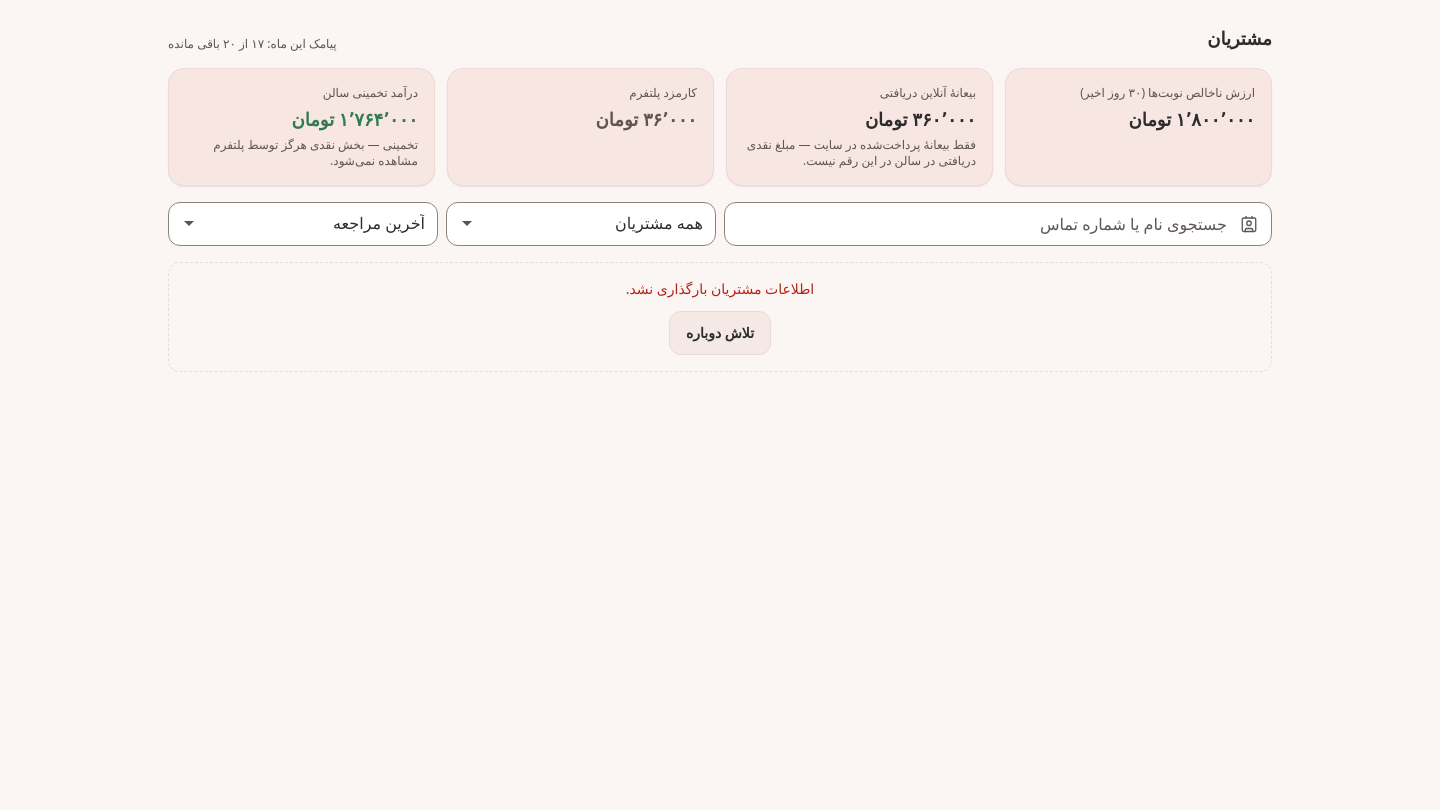
Test: CustomersView › shows a retryable error state when the customers fetch fails
Click the button with test id "retry-customers": (720, 333) [669,311,771,355]
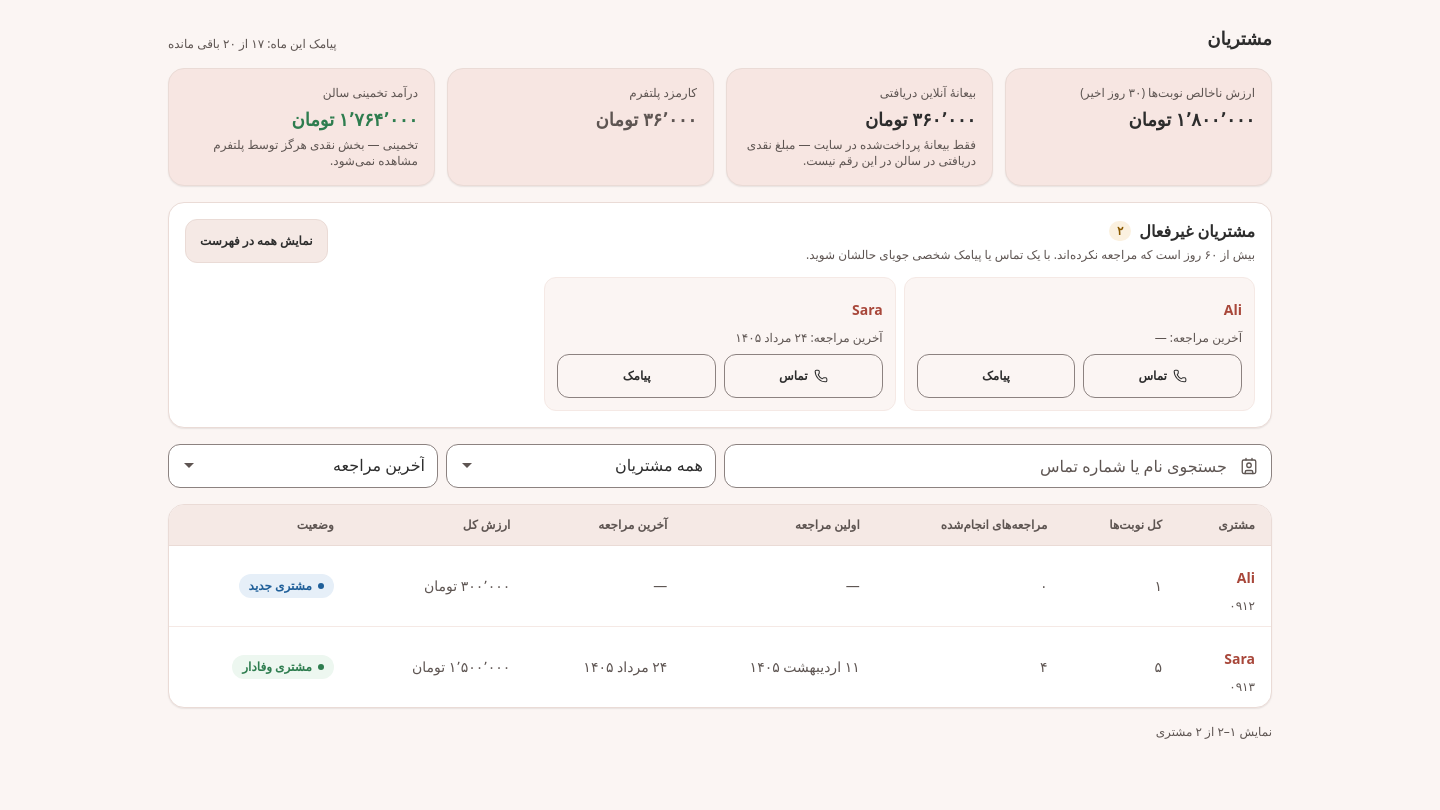
Now the number of rows with test id "customer-row" is 2, box [169,546,1271,626]; [169,626,1271,707]
